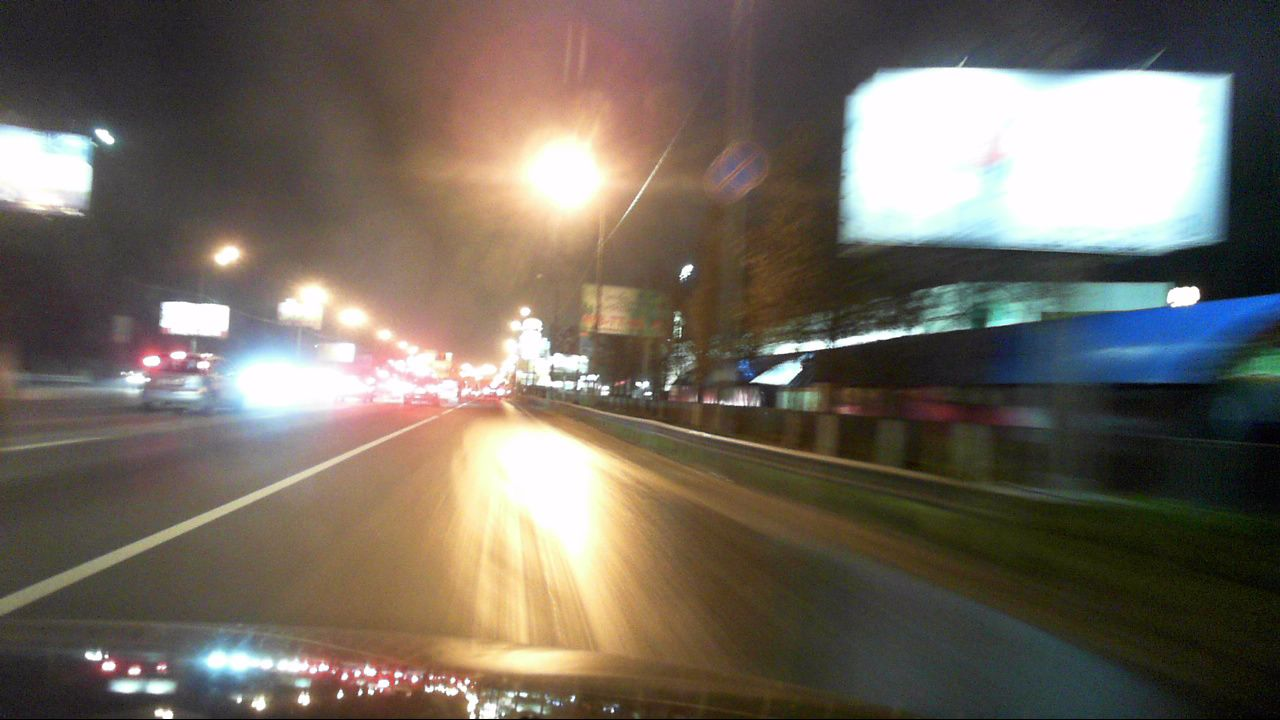No Parking: (717, 142, 766, 192)
